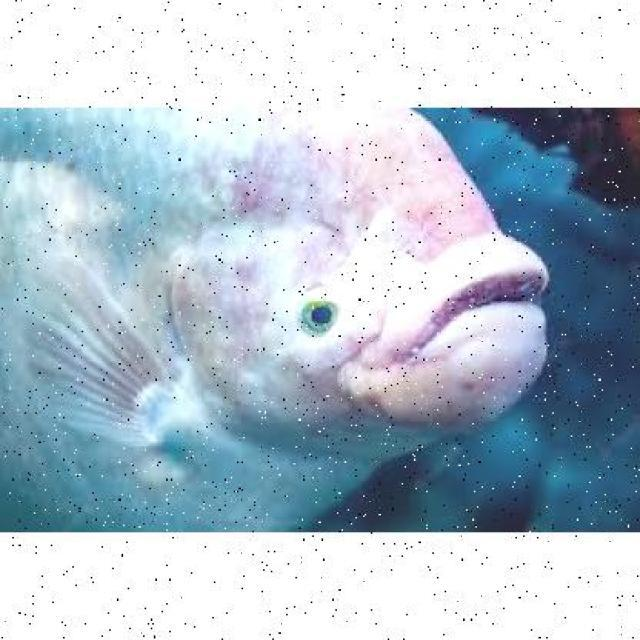gurame: (0, 106, 560, 531)
